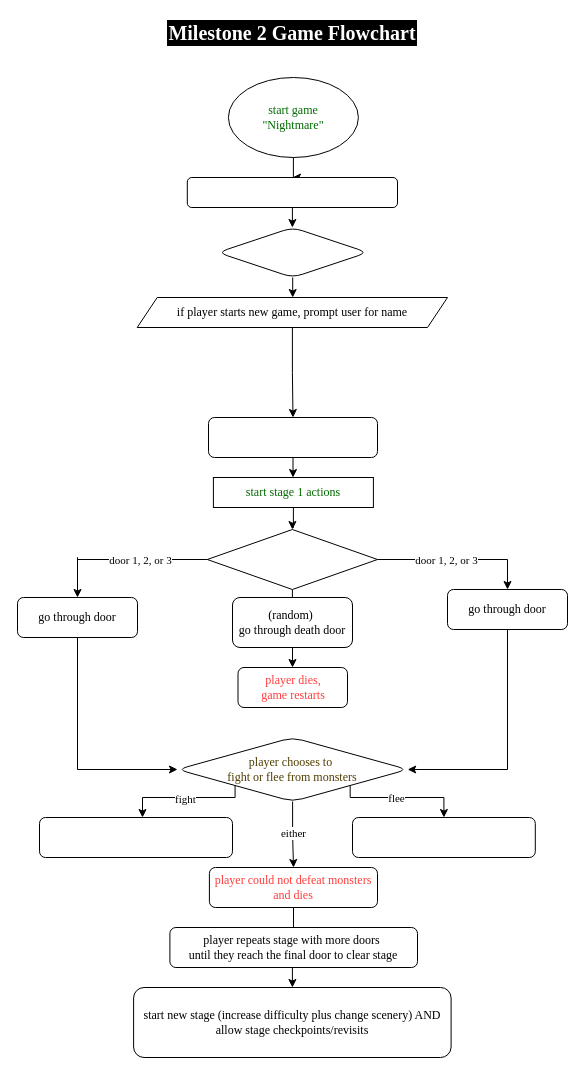
Some shapes in this 585 by 1075 pixel diagram are drawn without their labels. The shapes that lost their labels are listed below. From the top down, each one's box as (x1, y1, x2, y2) in pixels, then its label:
(186, 176, 398, 208): display title screen with player options
(217, 226, 368, 278): player chooses option
(208, 416, 378, 458): print game introduction and player dialogue
(206, 528, 378, 590): player chooses door
(38, 816, 232, 858): player defeats monsters + gains their power for next stage
(352, 816, 535, 858): player flees from monsters but gains no power for next stage
